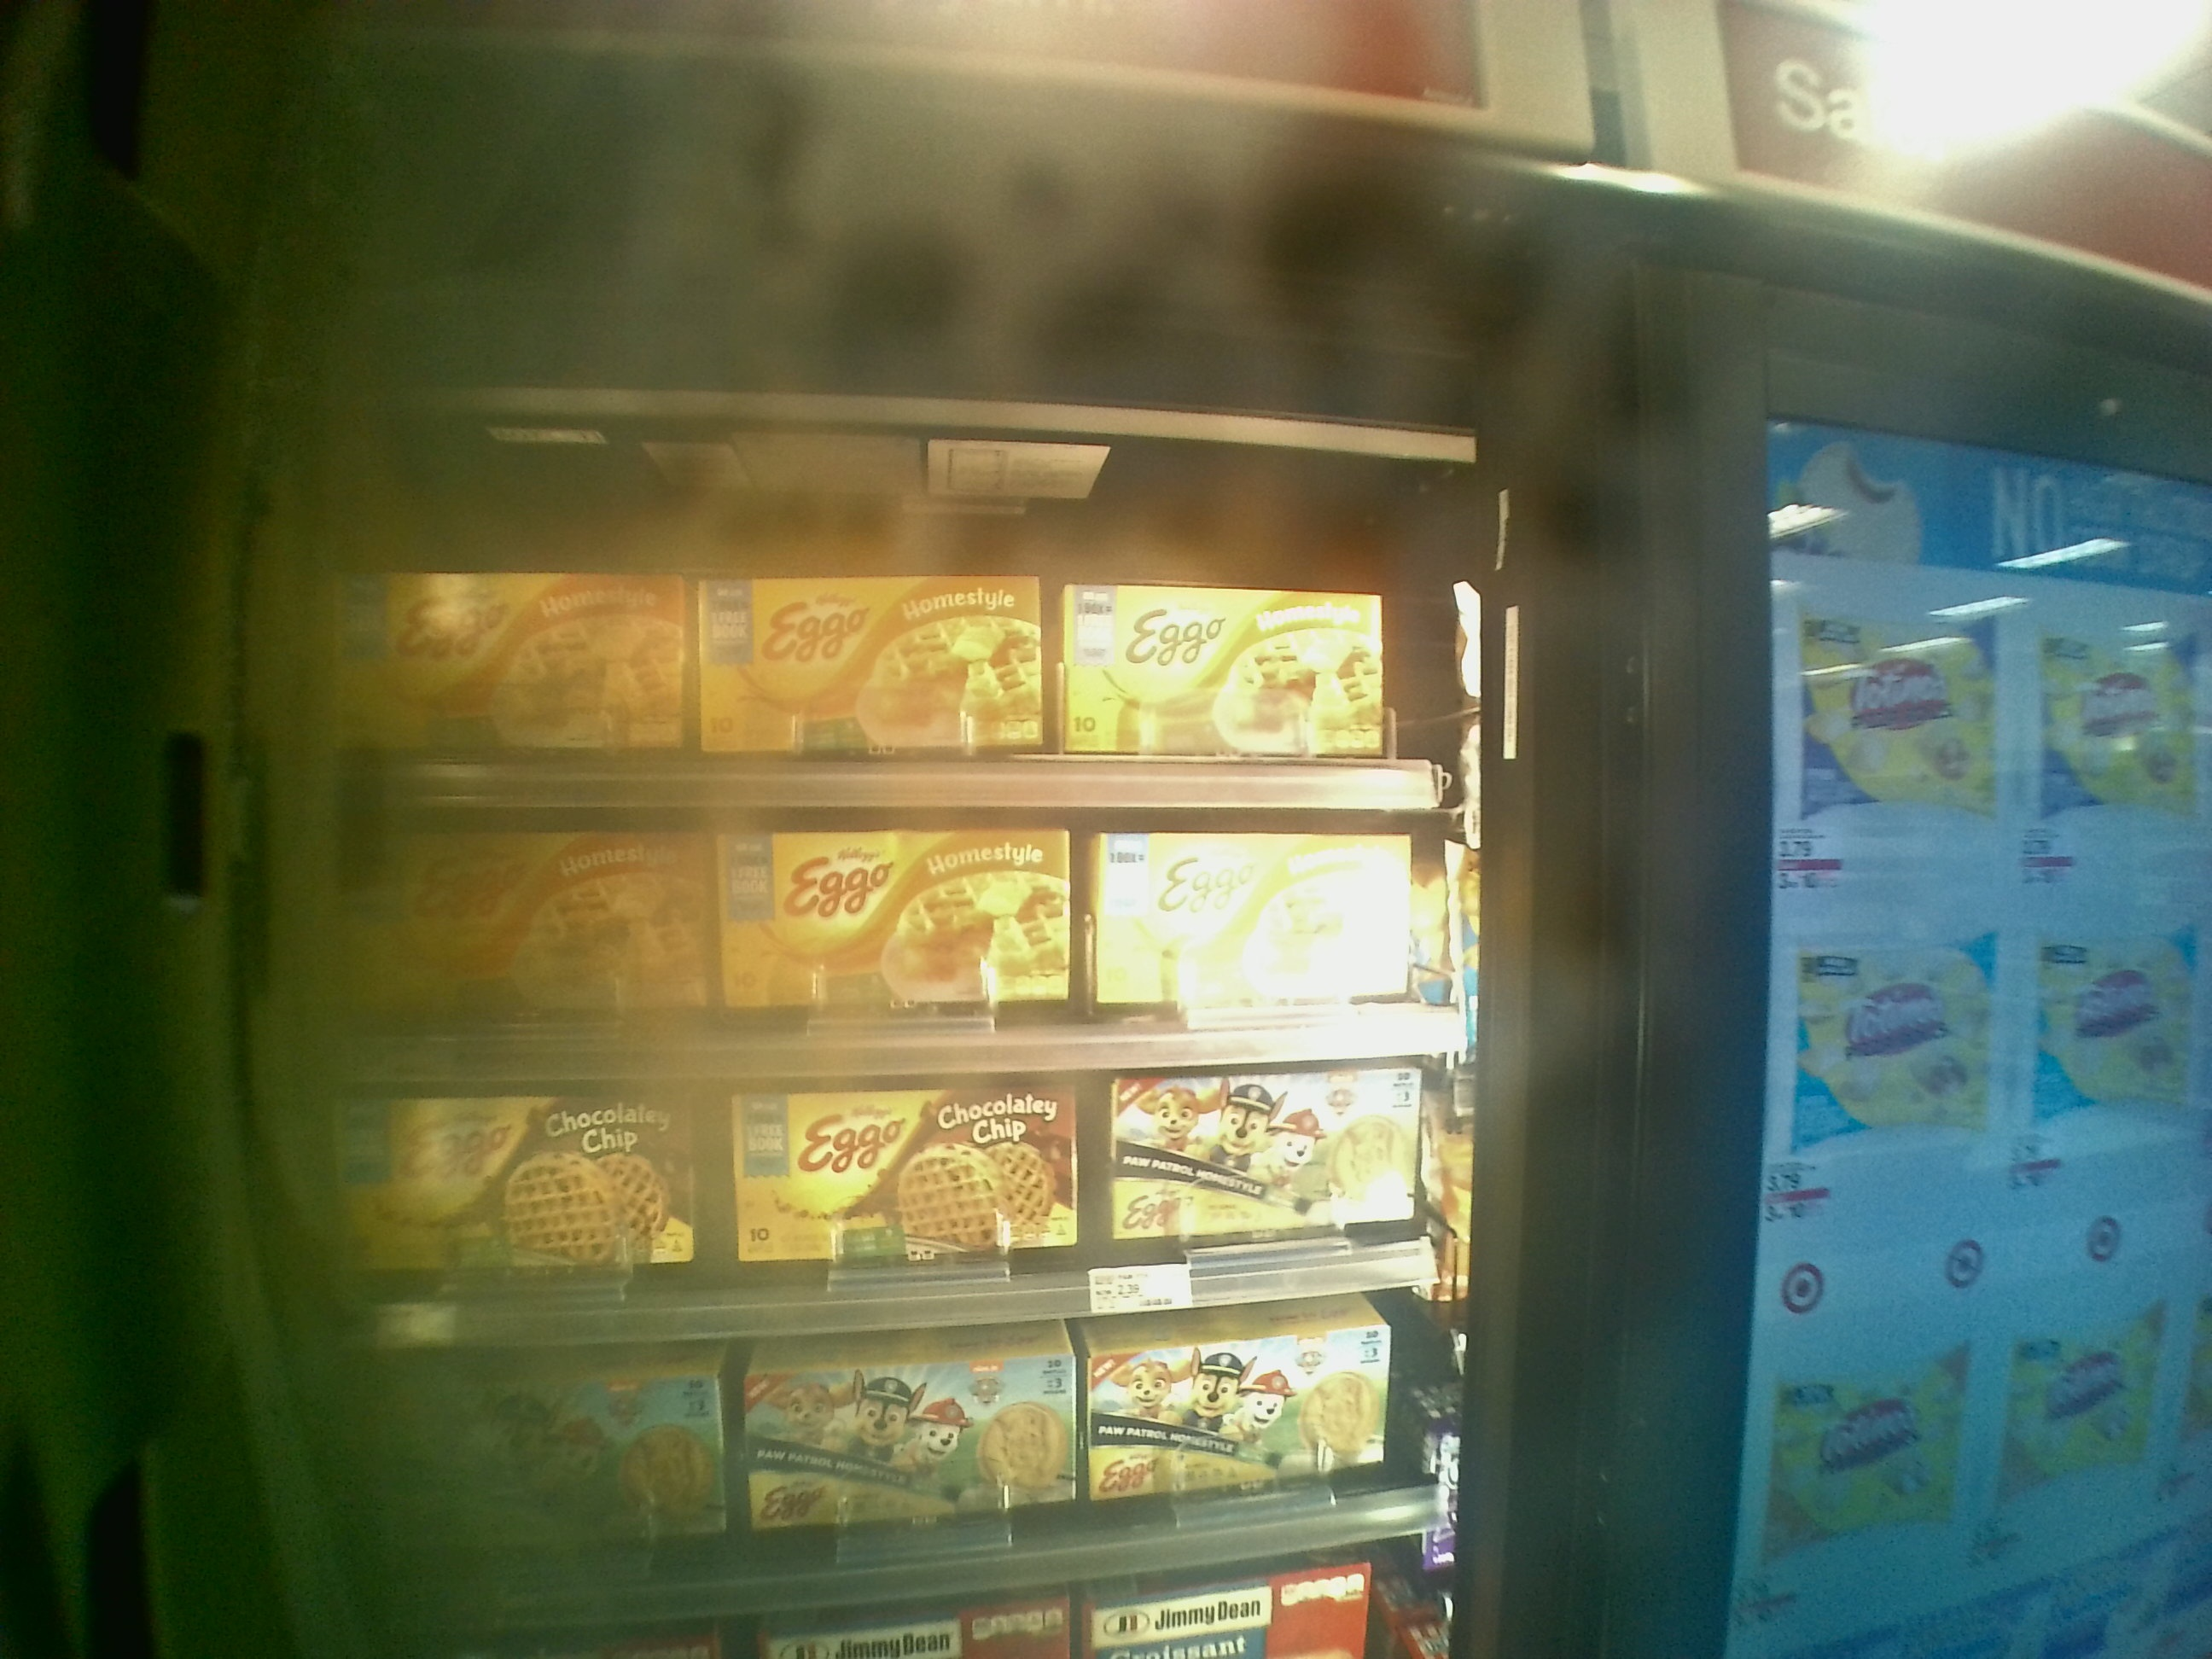shelf: (310, 373, 1453, 814), (326, 1049, 1472, 1354), (301, 812, 1468, 1070)
